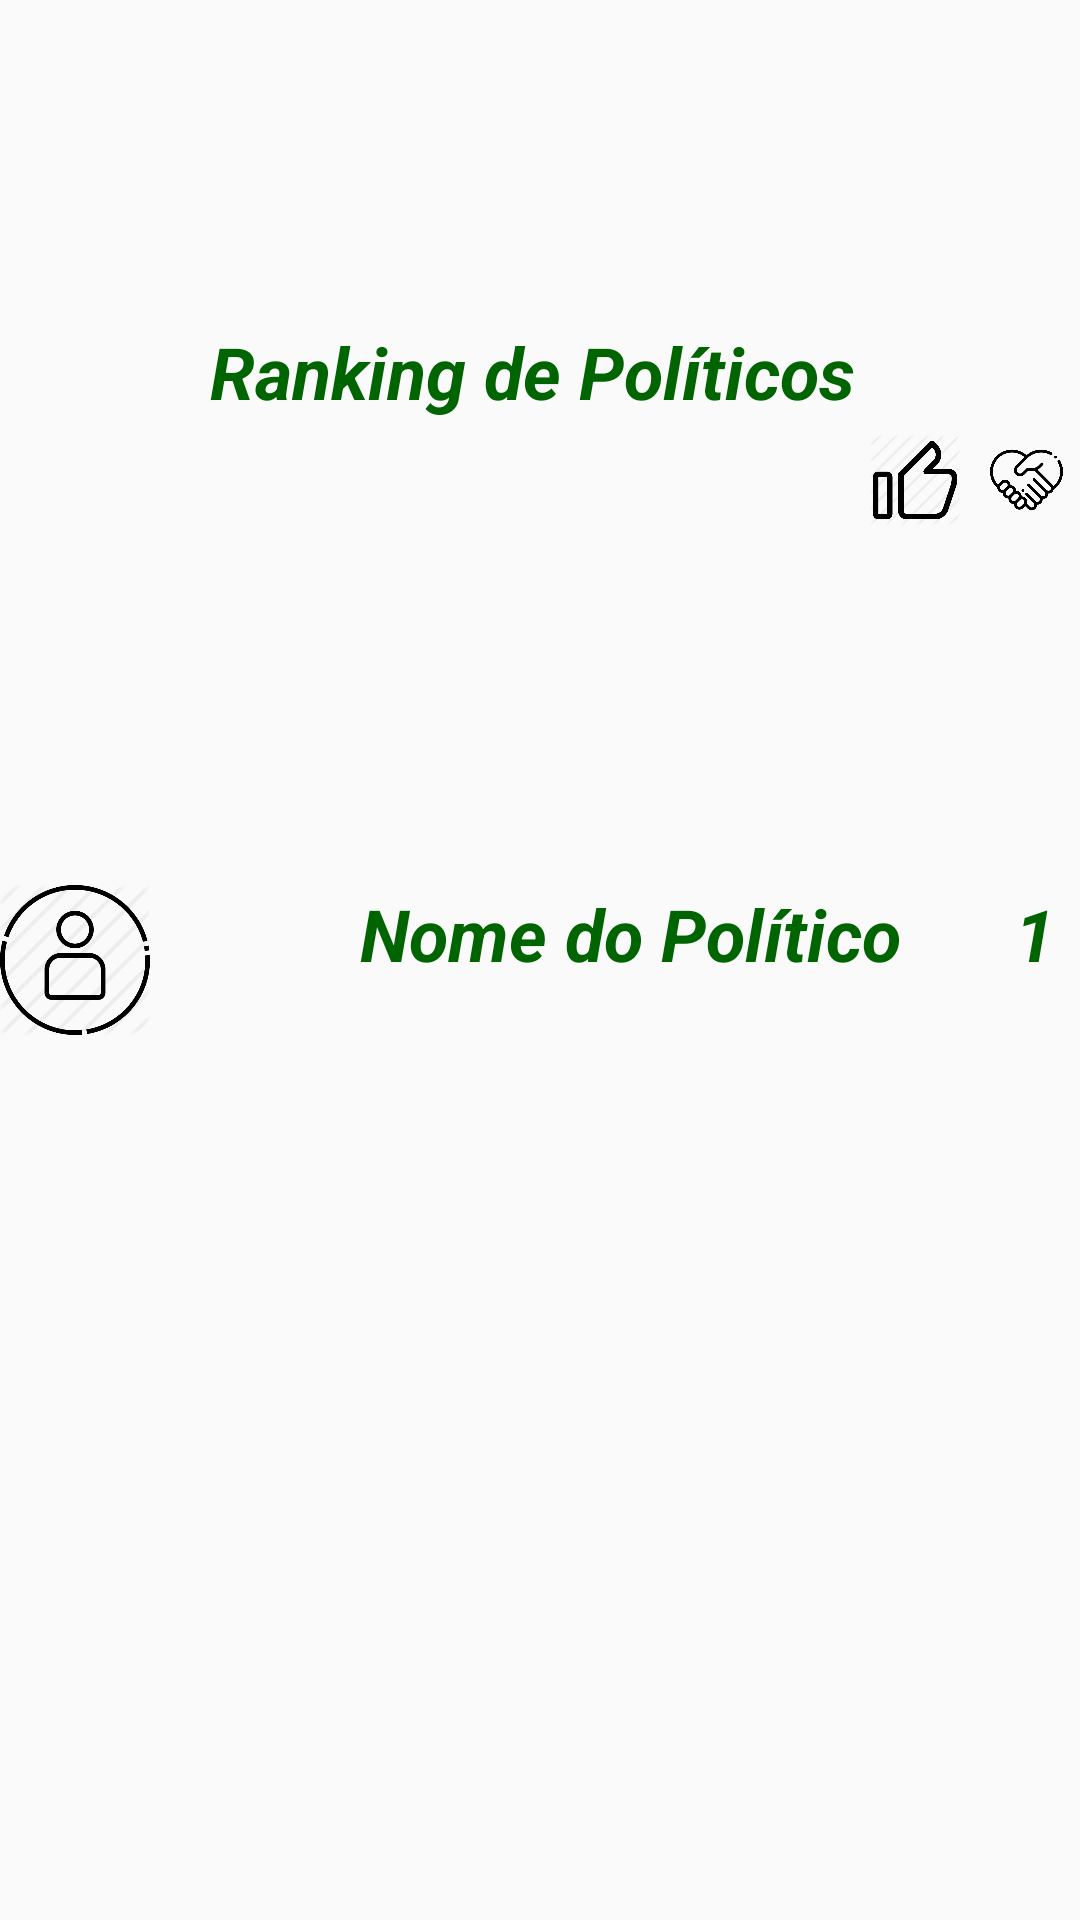

Locate icon controls on the screen. Image size 1080w x 1920h, boxes as region(x1, y1, x2, y2).
like: region(873, 441, 957, 519)
profile: region(0, 885, 150, 1035)
respeito: region(990, 450, 1063, 510)
